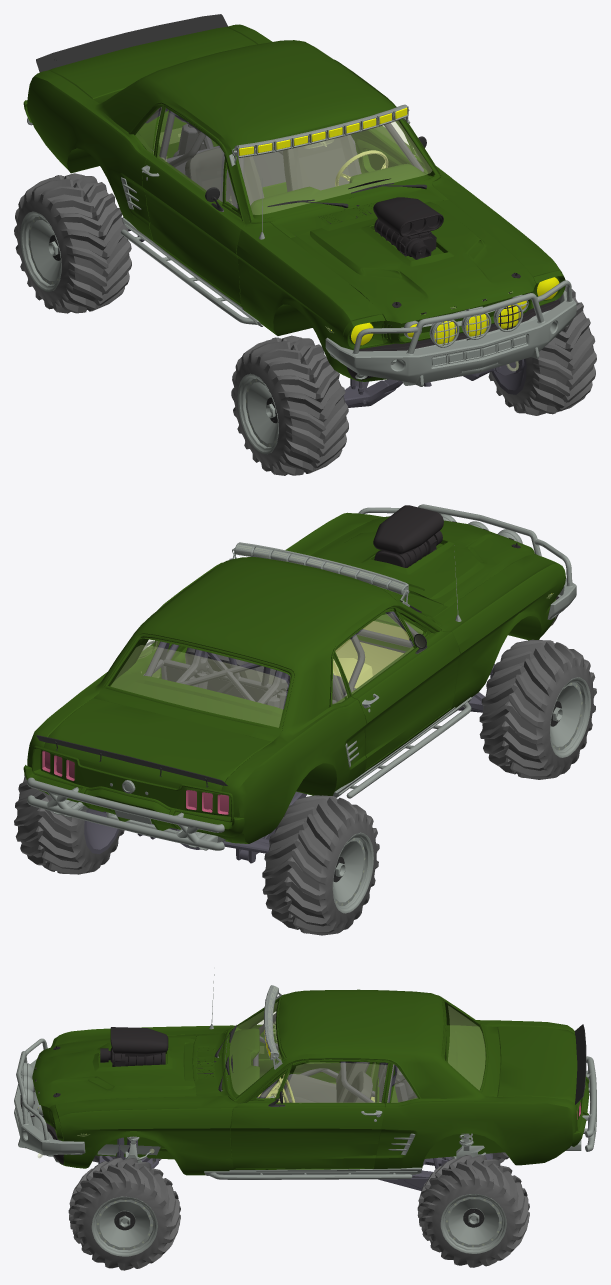
File: time2drag.glb
3 renders of one model, top to bottom at view 1: azimuth 30°, elevation 25°; view 2: azimuth 150°, elevation 25°; view 3: azimuth 270°, elevation 25°, orthographic. The views are drawn at different scales.
Visible parts, largest first — view 1: Truck, windows, WheelFR, WheelRR, WheelFL; view 2: Truck, WheelFR, WheelRR, windows, WheelRL; view 3: Truck, WheelFL, WheelRL, windows.
Boxes of the visible parts, x1=… form: Truck: x1=23, y1=14, x2=576, y2=407; windows: x1=136, y1=109, x2=431, y2=214; WheelFR: x1=231, y1=335, x2=348, y2=475; WheelRR: x1=14, y1=173, x2=131, y2=313; WheelFL: x1=488, y1=286, x2=596, y2=415; Truck: x1=23, y1=504, x2=576, y2=863; WheelFR: x1=479, y1=639, x2=596, y2=779; WheelRR: x1=262, y1=795, x2=379, y2=935; windows: x1=111, y1=613, x2=422, y2=727; WheelRL: x1=14, y1=774, x2=124, y2=874; Truck: x1=14, y1=974, x2=596, y2=1190; WheelFL: x1=68, y1=1157, x2=180, y2=1270; WheelRL: x1=417, y1=1155, x2=529, y2=1267; windows: x1=229, y1=1002, x2=485, y2=1102.
Size of the model in its own units: 1.99 by 1.62 by 4.
